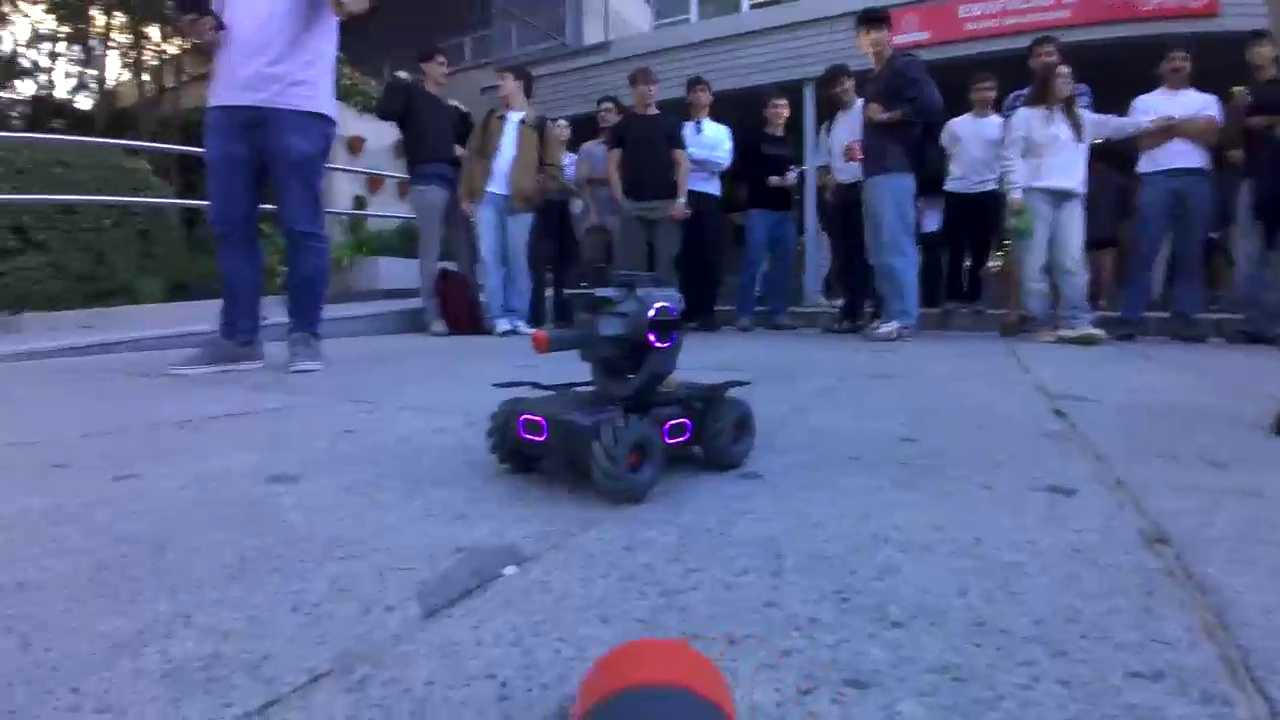robot: (481, 272, 771, 495)
